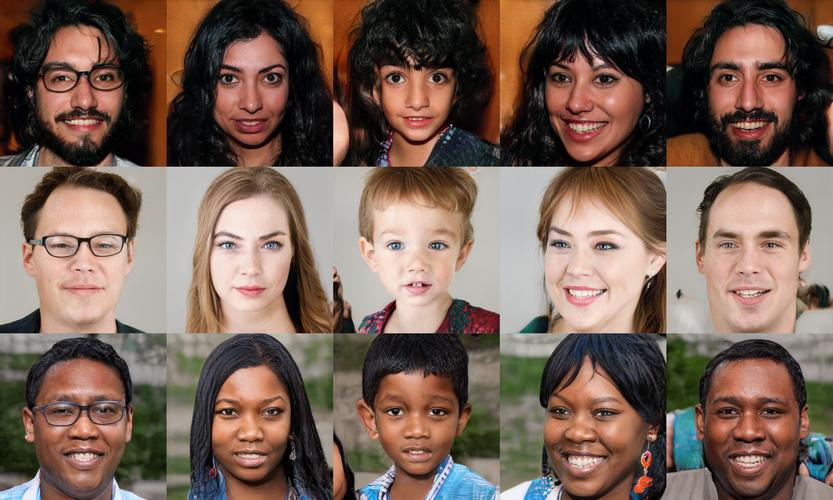nomask: (20, 174, 146, 322), (701, 349, 807, 489), (206, 19, 305, 144)
